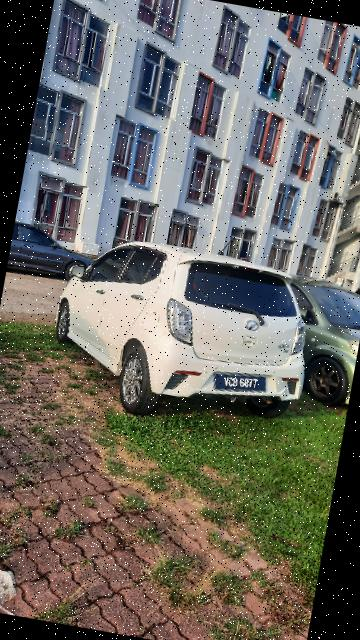License_Plate: (213, 370, 266, 399)
car: (43, 229, 324, 441), (270, 278, 360, 409), (7, 222, 98, 285)
